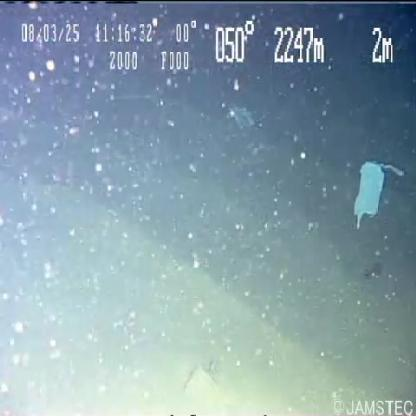Rác: (354, 162, 386, 224)
